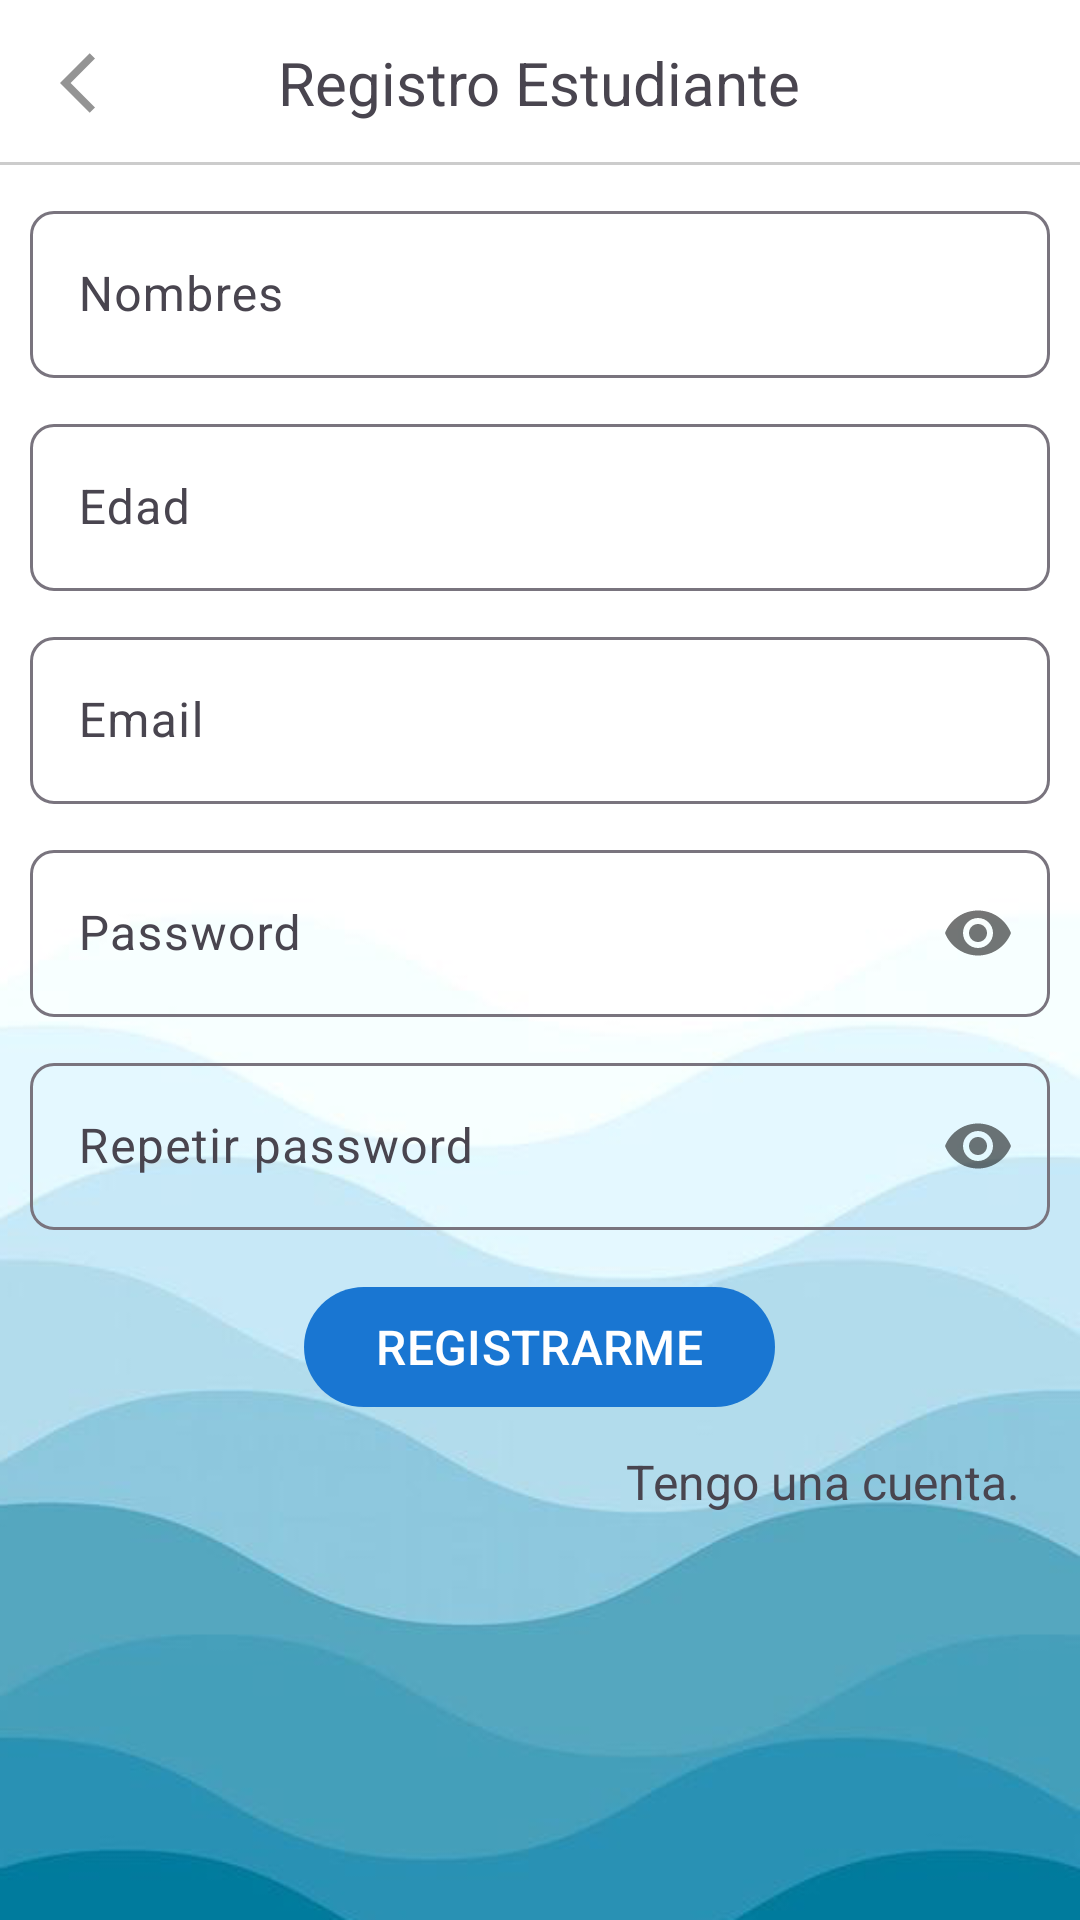

Point at icon controls on the screen. Image size 1080 x 1920, points as [x,y].
regresar: [77,83]
